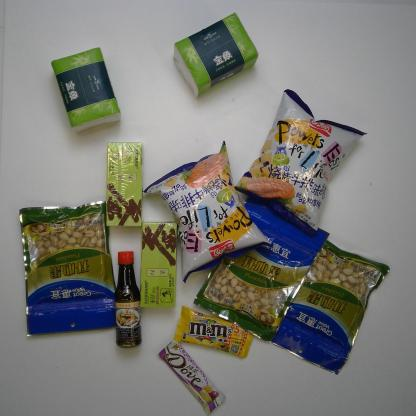Chocolate: (156, 338, 227, 416), (172, 305, 255, 360)
Dried Fruit: (192, 189, 332, 345), (271, 239, 391, 377), (16, 200, 117, 335)
Instant Drink: (103, 140, 149, 228), (137, 221, 177, 308)
Puffed Food: (236, 85, 364, 237), (142, 139, 272, 280)
Seasoner: (112, 249, 146, 347)
Tissue: (172, 10, 260, 94), (48, 47, 120, 135)
